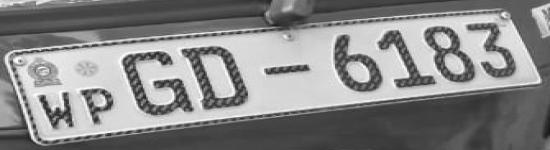-: (257, 54, 321, 84)
1: (371, 23, 445, 96)
3: (460, 17, 529, 84)
6: (321, 29, 393, 96)
8: (414, 20, 485, 90)
D: (173, 39, 264, 114)
G: (111, 43, 201, 125)
P: (76, 86, 120, 126)
W: (36, 88, 77, 132)
